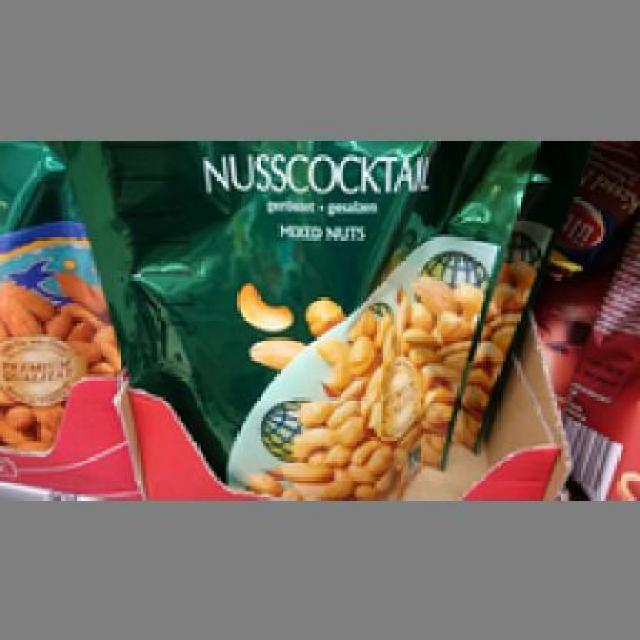Nuts: (46, 140, 543, 494)
